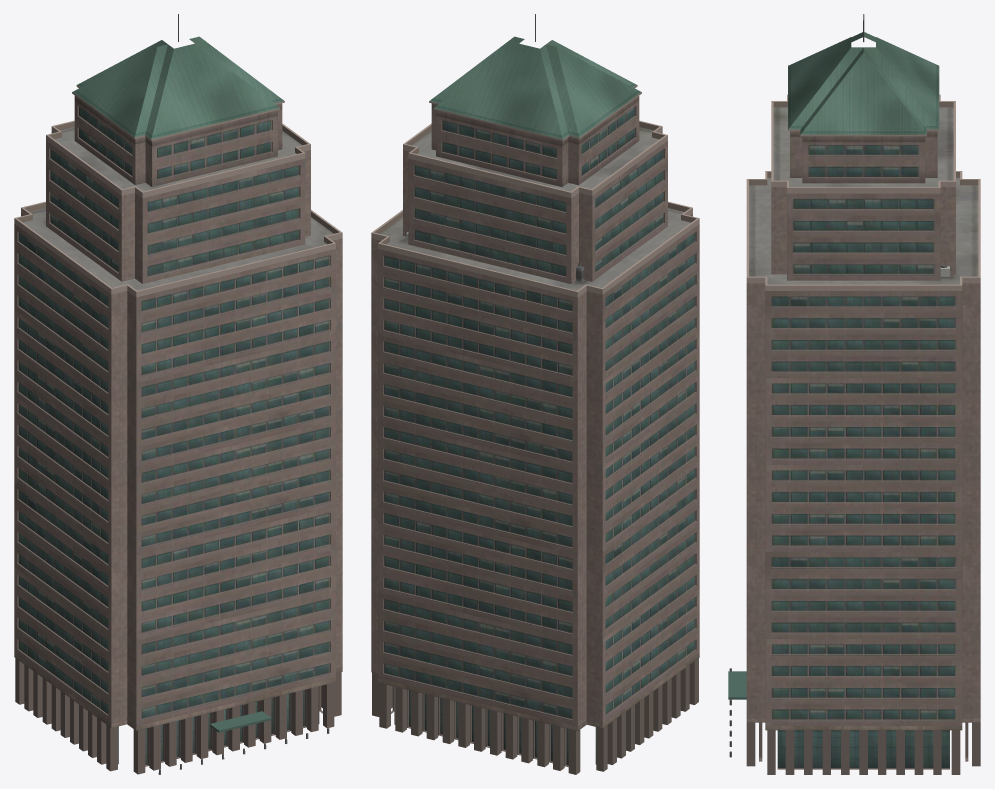
Rendered from seattle_officeslab_c.glb.
The picture shows the model from 3 angles, left to right: view 1: azimuth 30°, elevation 25°; view 2: azimuth 150°, elevation 25°; view 3: azimuth 270°, elevation 25°; orthographic projection.
Visible parts, largest first — view 1: seattle_officeslab_c; view 2: seattle_officeslab_c; view 3: seattle_officeslab_c.
Boxes of the visible parts, bbox=[...] form: seattle_officeslab_c: bbox=[14, 14, 342, 774]; seattle_officeslab_c: bbox=[371, 14, 699, 774]; seattle_officeslab_c: bbox=[728, 14, 980, 774].
Bounding box in the file's own units: 44 × 126 × 41.
Materials: 1 (1 with a texture image).
